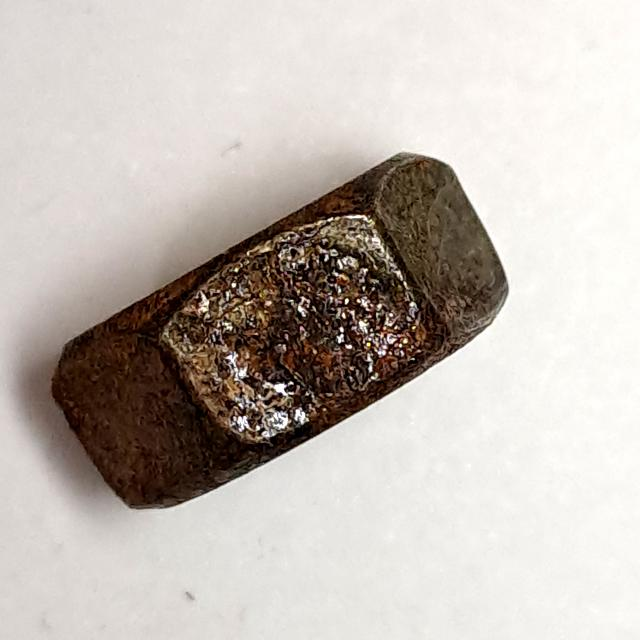Side_Rust: (40, 145, 533, 529)
